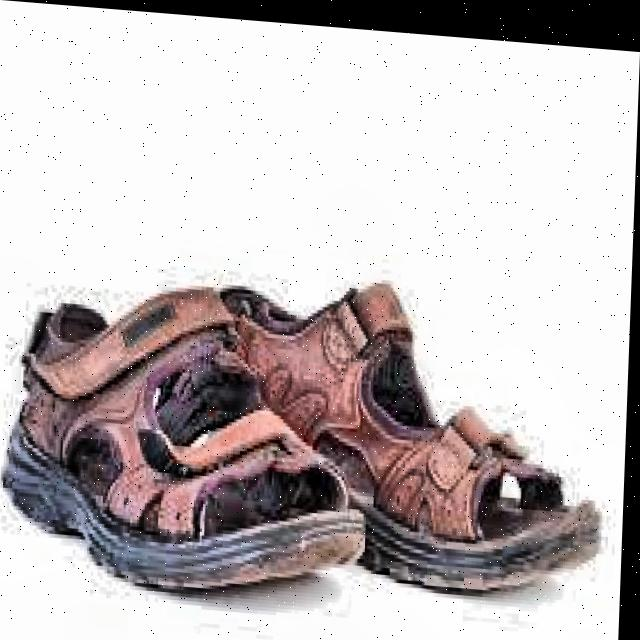shoes: (0, 248, 613, 632)
